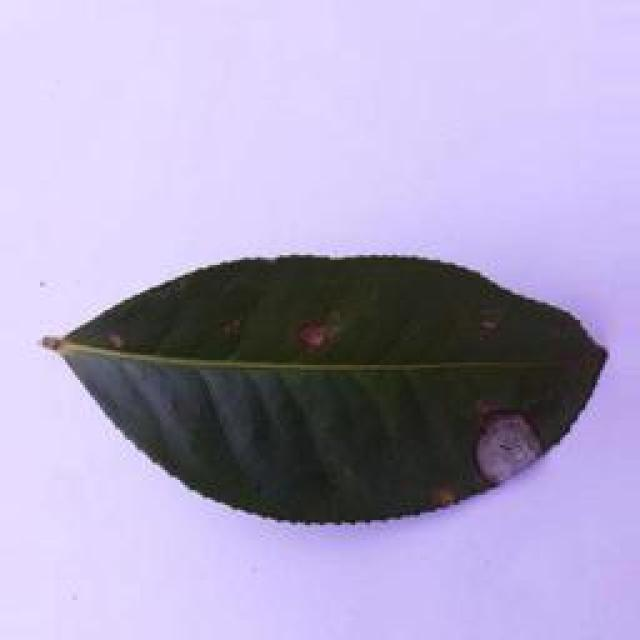Gray Blight: (40, 252, 607, 528)
